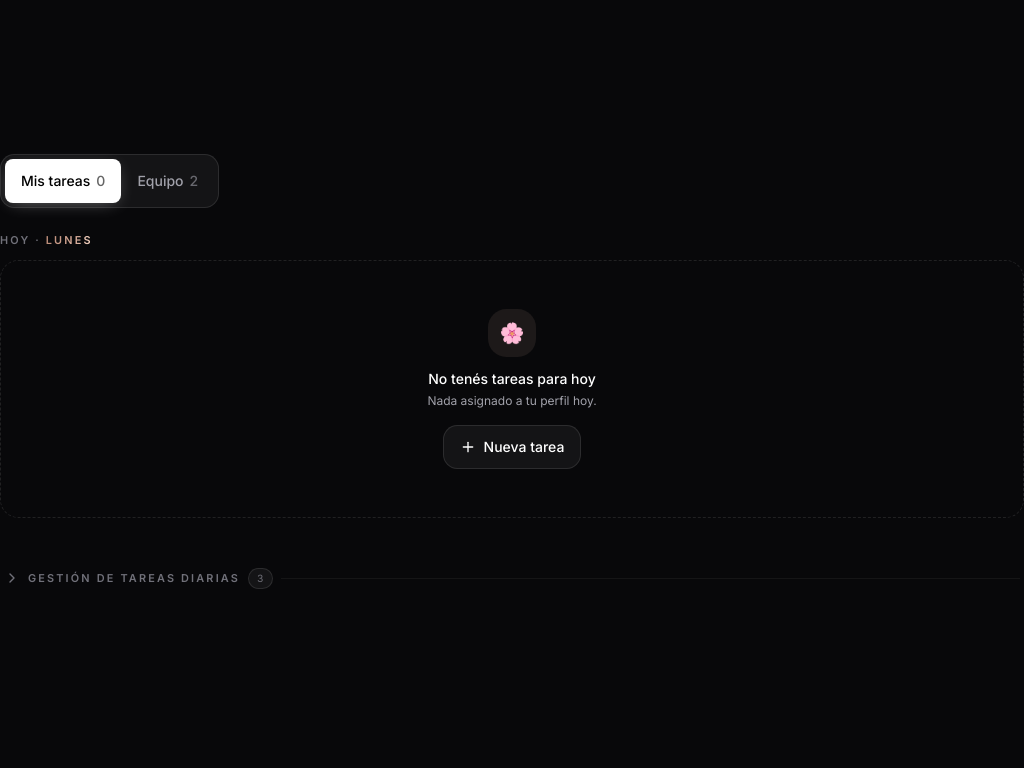
daily task views › leads management with unassigned work and exposes direct actions
The width and height of the screenshot is (1024, 768).
Click the button "Gestión de tareas diarias 3": click(134, 578) [0, 558, 1023, 598]
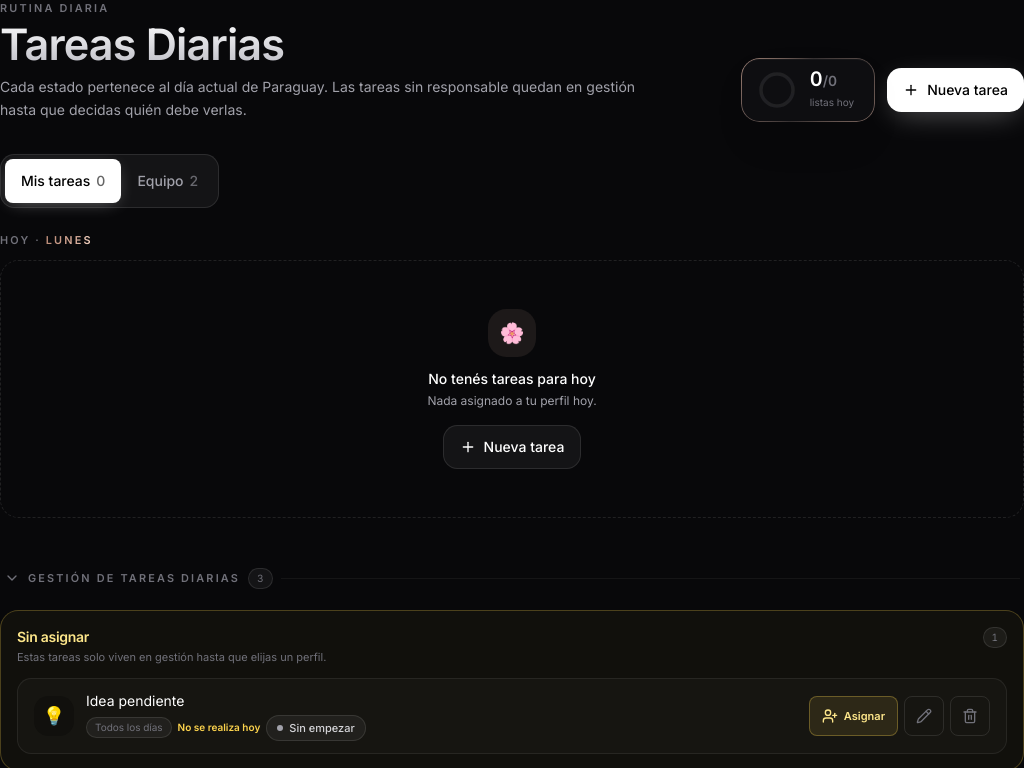
Expected: the element with test id "daily-management-group" shows "Sin asignar", [17, 628, 89, 645]
Expected: the button with aria-label "asignar idea pendiente" is shown, [809, 696, 898, 736]
Expected: the button named "editar idea pendiente" is shown, [904, 696, 944, 736]
